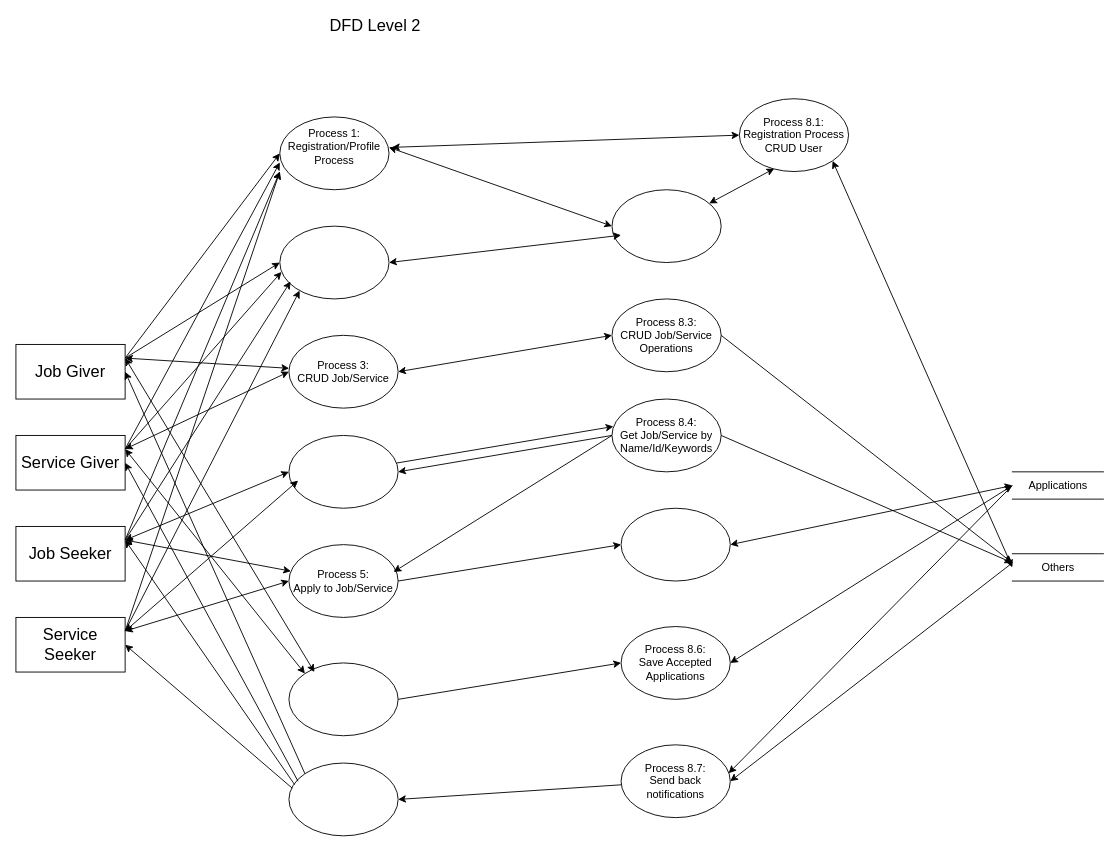
The diagram is 1119 pixels wide and 852 high, and some of its shapes have lost their labels. The shapes that lost their labels are listed below. From the top down, each one's box as (x1, y1, x2, y2) in pixels, then its label:
(611, 189, 721, 263): Process 8.2: Auth Process
(279, 225, 389, 299): Process 2: Login Process
(288, 435, 398, 508): Process 4: Search Job/Service
(620, 507, 730, 581): Process 8.5: Apply to Job/Service if any
(288, 662, 398, 736): Process 6: Accept Application Job/Service
(288, 762, 398, 836): Process 7: Get notifications
